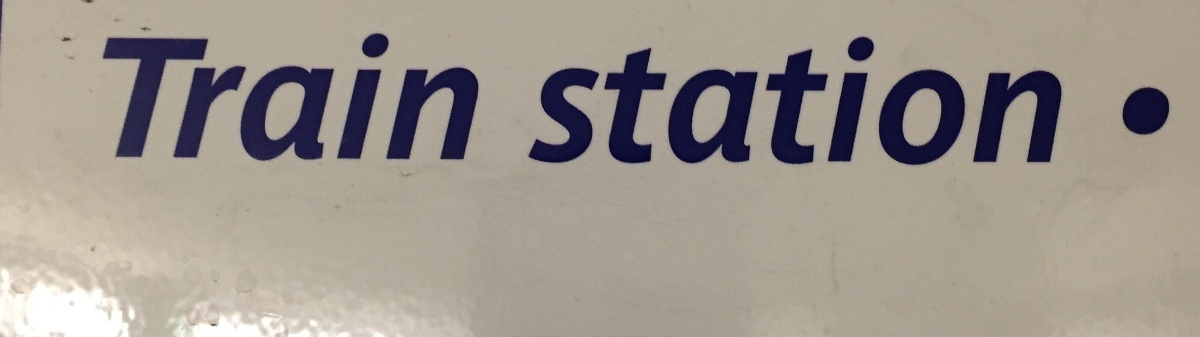text: (113, 31, 128, 163), (129, 31, 144, 163), (145, 31, 160, 163), (161, 31, 176, 163), (177, 31, 192, 163), (193, 31, 208, 163), (209, 31, 224, 163), (225, 31, 240, 163), (241, 31, 256, 163), (257, 31, 272, 163), (273, 31, 288, 163), (289, 31, 304, 163), (305, 31, 320, 163), (321, 31, 336, 163), (337, 31, 352, 163), (353, 31, 368, 163), (369, 31, 384, 163), (385, 31, 400, 163), (401, 31, 416, 163), (417, 31, 432, 163), (433, 31, 448, 163), (449, 31, 464, 163), (465, 31, 480, 163), (561, 35, 576, 167), (577, 35, 592, 167), (593, 35, 608, 167), (609, 35, 624, 167), (625, 35, 640, 167), (641, 35, 656, 167), (657, 35, 672, 167), (673, 35, 688, 167), (689, 35, 704, 167), (705, 35, 720, 167), (721, 35, 736, 167), (737, 35, 752, 167), (753, 35, 768, 167), (769, 35, 784, 167), (785, 35, 800, 167), (801, 35, 816, 167), (817, 35, 832, 167), (833, 35, 848, 167), (849, 35, 864, 167), (865, 35, 880, 167), (881, 35, 896, 167), (897, 35, 912, 167), (913, 35, 928, 167), (929, 35, 944, 167), (945, 35, 960, 167), (961, 35, 976, 167), (977, 35, 992, 167), (993, 35, 1008, 167), (1009, 35, 1024, 167), (1025, 35, 1040, 167), (1041, 35, 1056, 167), (1057, 35, 1070, 167), (481, 31, 490, 163), (551, 35, 560, 167), (105, 31, 112, 163)
